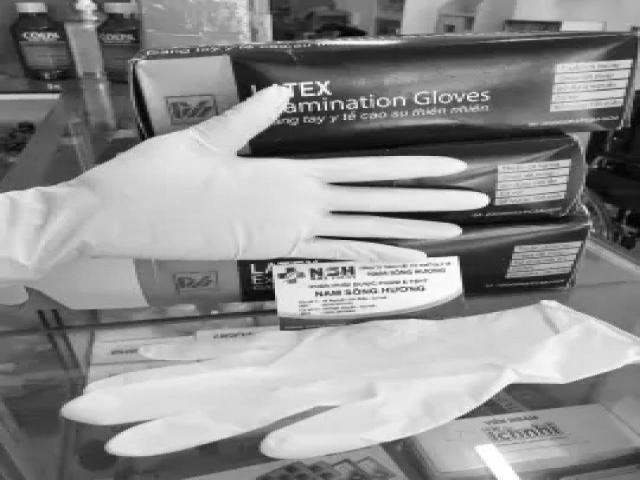gloved: (108, 87, 480, 266)
